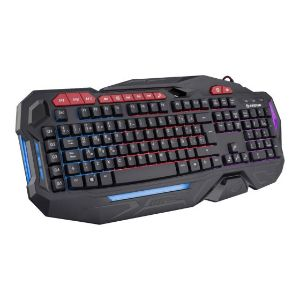keyboard: (12, 73, 284, 225)
